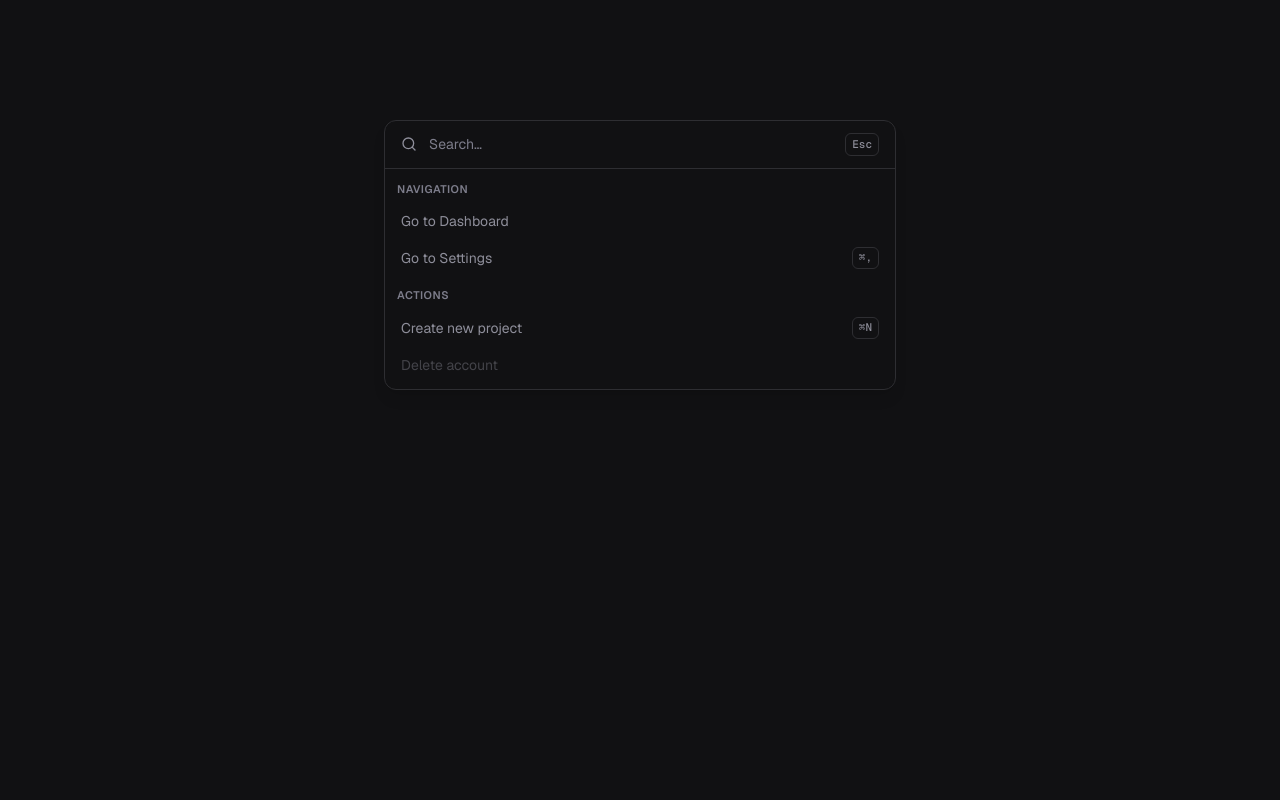
Test: CommandPalette › filters items by value (case-insensitive substring match)
This screenshot has width=1280, height=800.
Type "dashboard" into the dropdown at (631, 144), box [429,134,833,154]
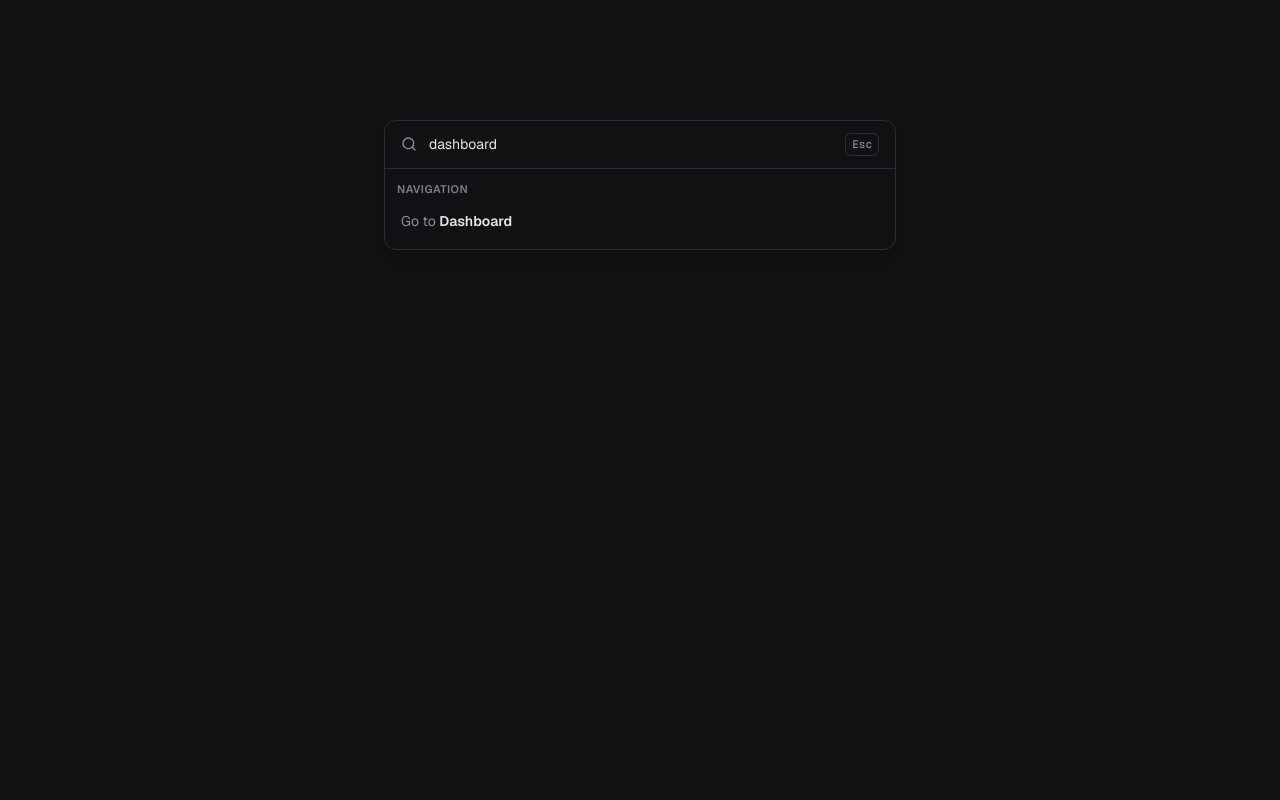
Expected: the option "Go to Dashboard" is shown, [401,212,512,230]
Now the option "Go to Settings" is gone
Now the option "Create new project" is gone
